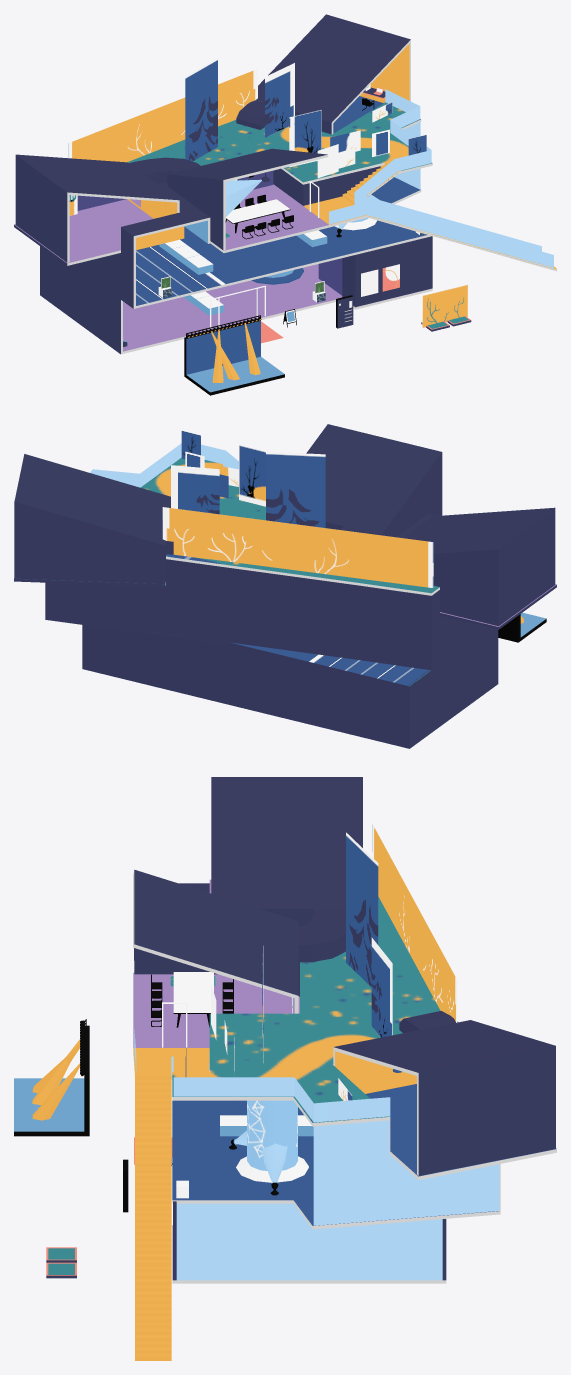
Rendered from 设计中心.fbx.
3 views of the same model, one above another, from view 1: azimuth 30°, elevation 25°; view 2: azimuth 150°, elevation 25°; view 3: azimuth 270°, elevation 25° (orthographic). The views are drawn at different scales.
Visible parts, largest first — view 1: building, glass_3, tree_10, stage, tree_9, tree_8, Plane, tree_4, chair, table_13, light_ray, wall (+7 smaller); view 2: building, tree_10, tree_9, tree_8, glass_3, tree_4, stage, tree_5; view 3: building, glass_2, glass, stairs4, tree_10, glass_3, stage, tree_9, pillar, tree_8, table_13, plant (+3 smaller).
Part boxes in pixels (left/top/right/bottom): building: left=14, top=14, right=432, bottom=354; glass_3: left=329, top=89, right=553, bottom=268; tree_10: left=68, top=69, right=257, bottom=162; stage: left=184, top=315, right=284, bottom=395; tree_9: left=185, top=58, right=217, bottom=161; tree_8: left=265, top=63, right=294, bottom=137; Plane: left=422, top=284, right=468, bottom=328; tree_4: left=289, top=110, right=321, bottom=167; chair: left=159, top=239, right=213, bottom=274; table_13: left=225, top=199, right=290, bottom=233; light_ray: left=226, top=179, right=261, bottom=216; wall: left=318, top=258, right=342, bottom=295; building: left=14, top=424, right=556, bottom=748; tree_10: left=162, top=507, right=433, bottom=588; tree_9: left=266, top=451, right=325, bottom=527; tree_8: left=171, top=465, right=219, bottom=514; glass_3: left=90, top=443, right=238, bottom=487; tree_4: left=239, top=445, right=265, bottom=506; stage: left=498, top=612, right=546, bottom=642; tree_5: left=181, top=430, right=200, bottom=459; building: left=133, top=777, right=556, bottom=1283; glass_2: left=176, top=1203, right=442, bottom=1280; glass: left=313, top=1120, right=499, bottom=1225; stairs4: left=135, top=1073, right=171, bottom=1360; tree_10: left=372, top=824, right=457, bottom=1022; glass_3: left=134, top=1029, right=390, bottom=1122; stage: left=14, top=1019, right=89, bottom=1136; tree_9: left=346, top=832, right=378, bottom=986; pillar: left=236, top=1100, right=308, bottom=1182; tree_8: left=371, top=937, right=392, bottom=1037; table_13: left=173, top=972, right=213, bottom=1027; plant: left=46, top=1247, right=76, bottom=1278.
Bounding box in the file's own units: 3104 × 1393 × 2149.
